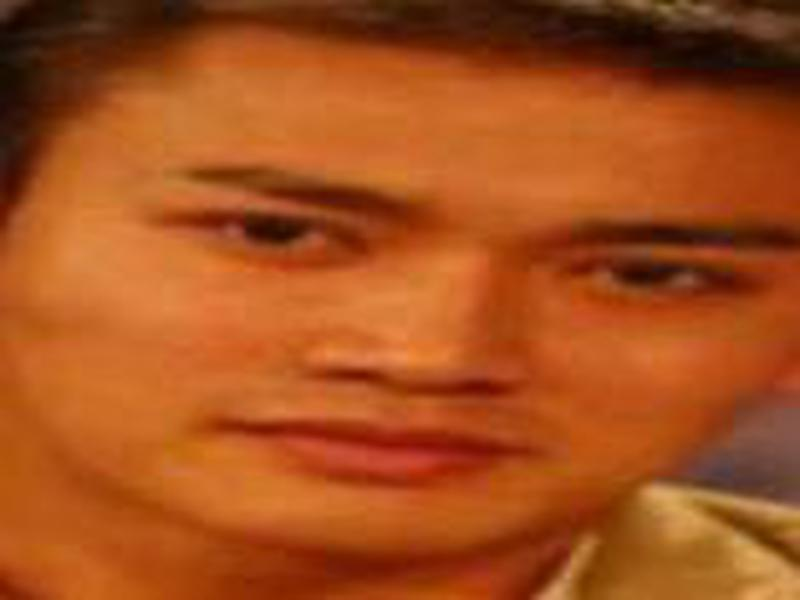without_mask: (17, 27, 799, 565)
